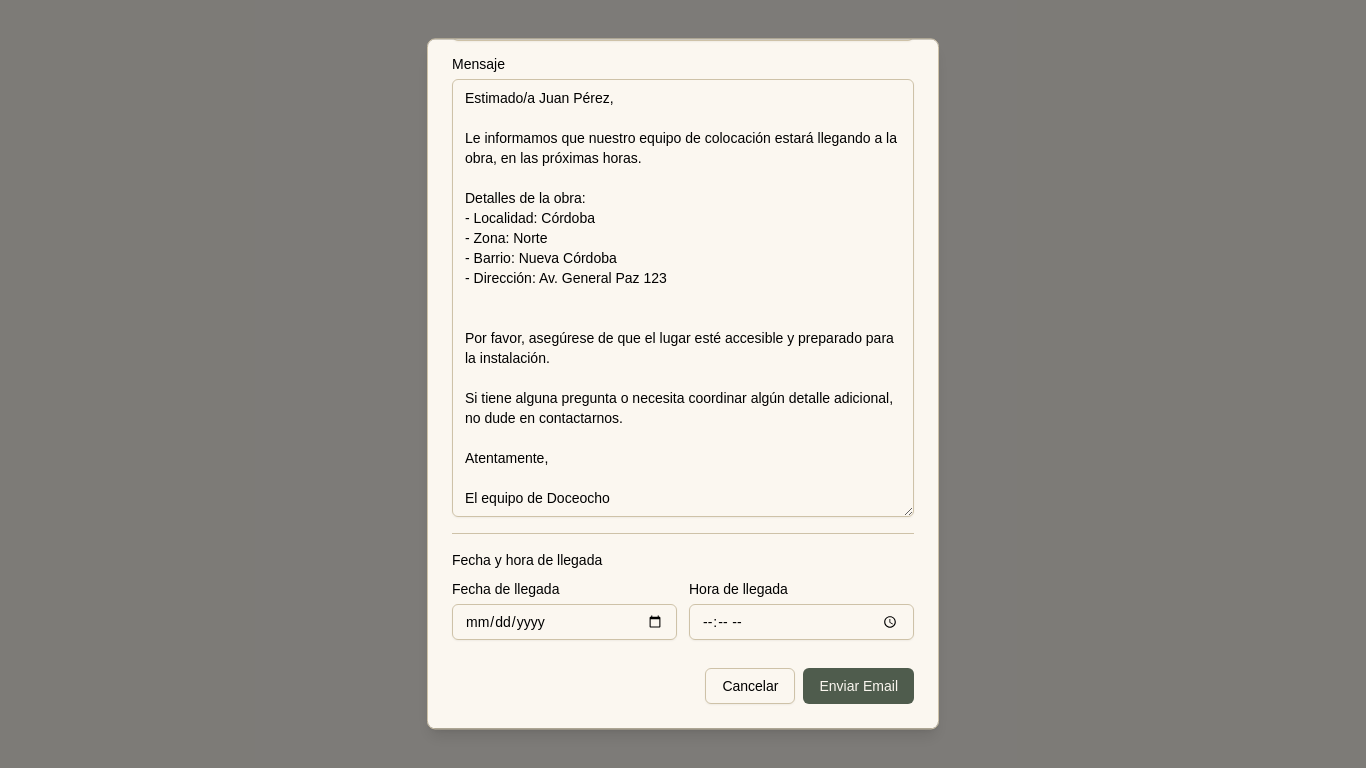
EmailNotificationModal › shows arrival notice when date changes
This screenshot has width=1366, height=768.
(page scrolled)
Type "2026-08-01" into the date field labelled "Fecha de llegada". click: x=564, y=622
box: [452,604,677,640]
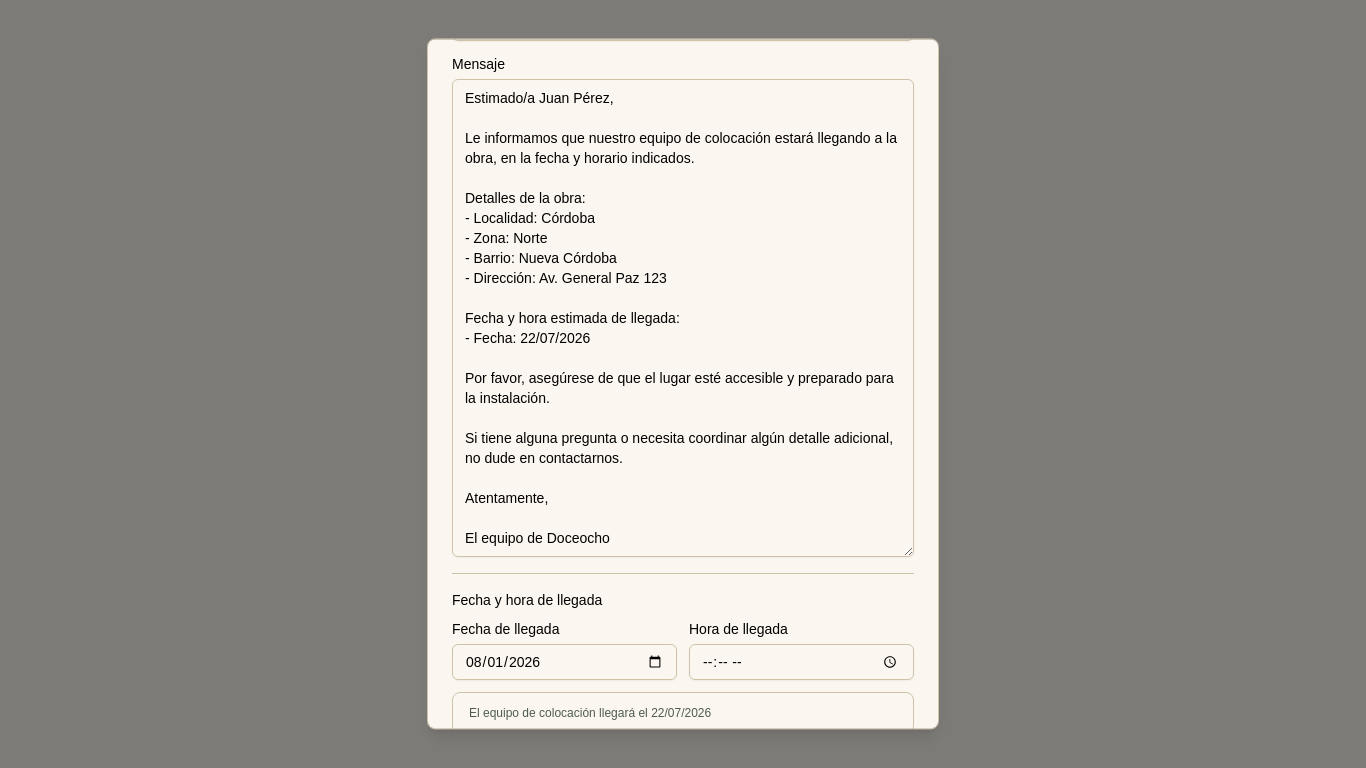
Expected: the text "El equipo de colocación llegará el 22/07/2026" is shown, [469,706,711,720]
